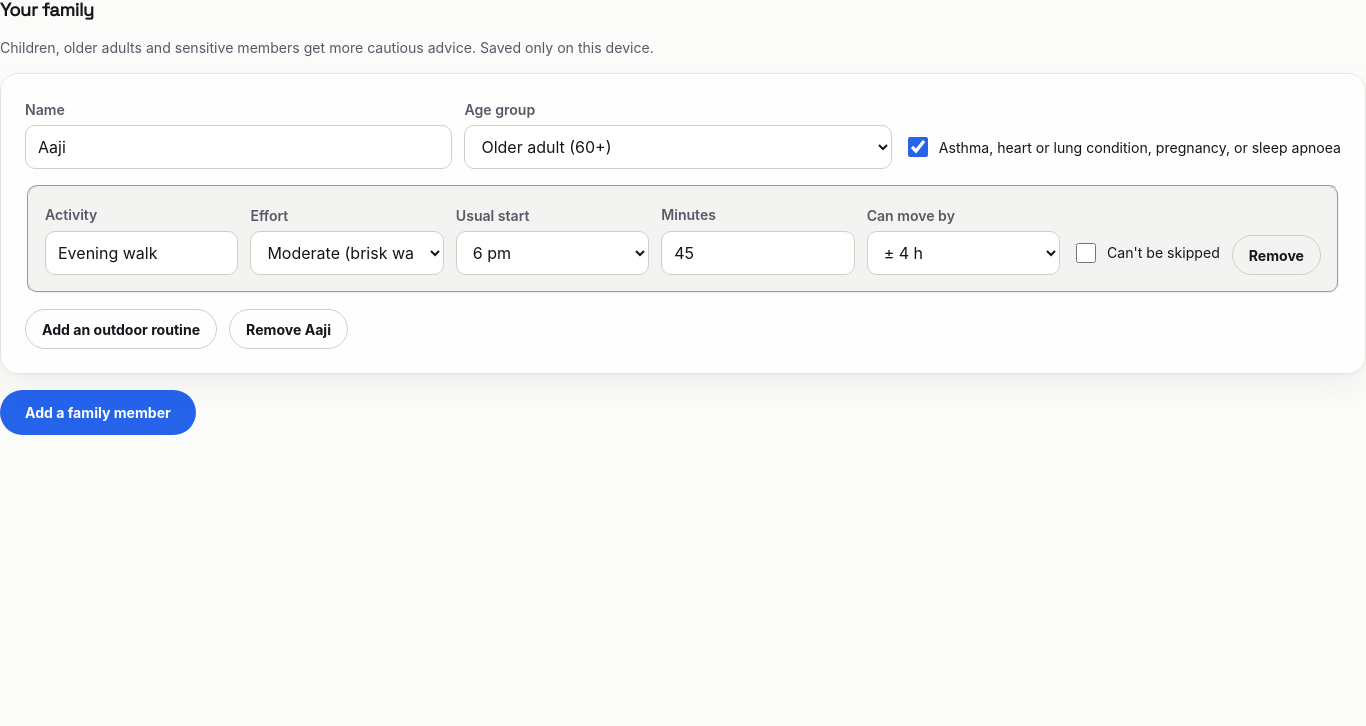
Test case: FamilyEditor › adds and removes routines, hiding the button at five
Click the button "Add an outdoor routine".
click(121, 329)  # box [25,309,217,349]
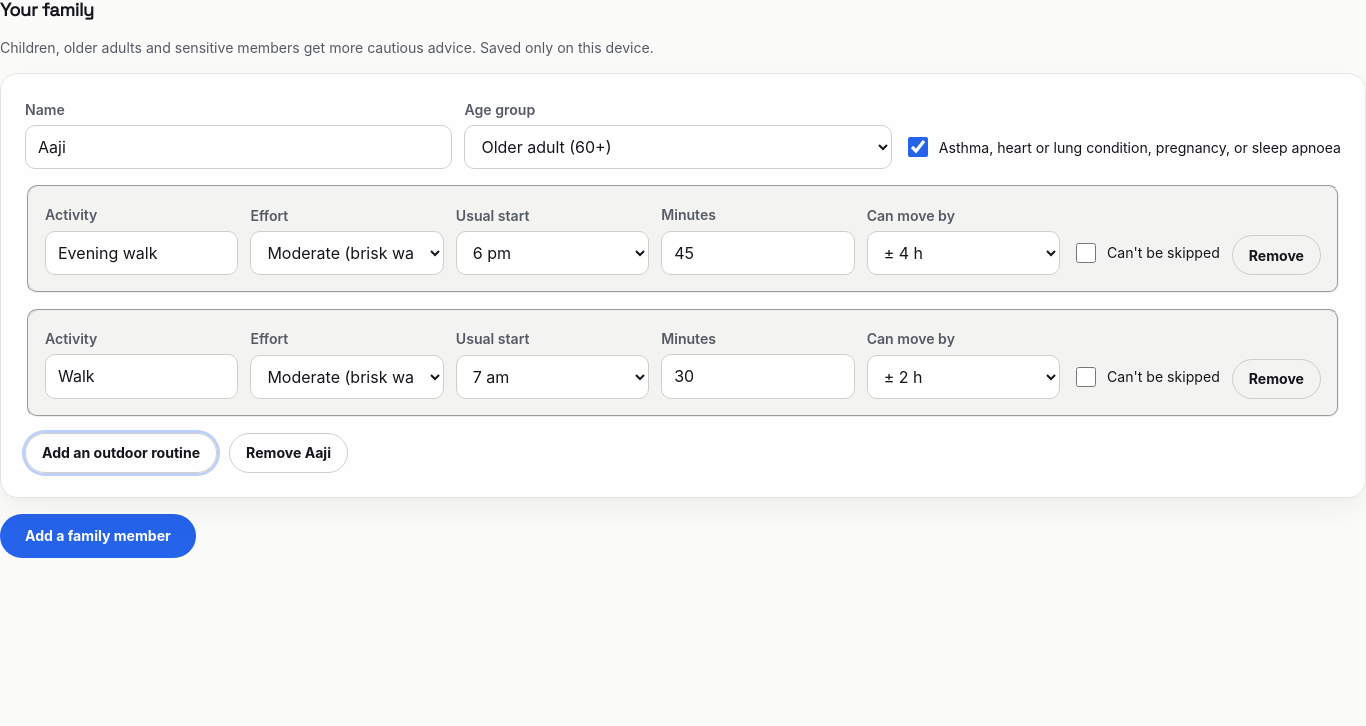
Click the button "Add an outdoor routine".
click(121, 453)  # box [25,433,217,473]
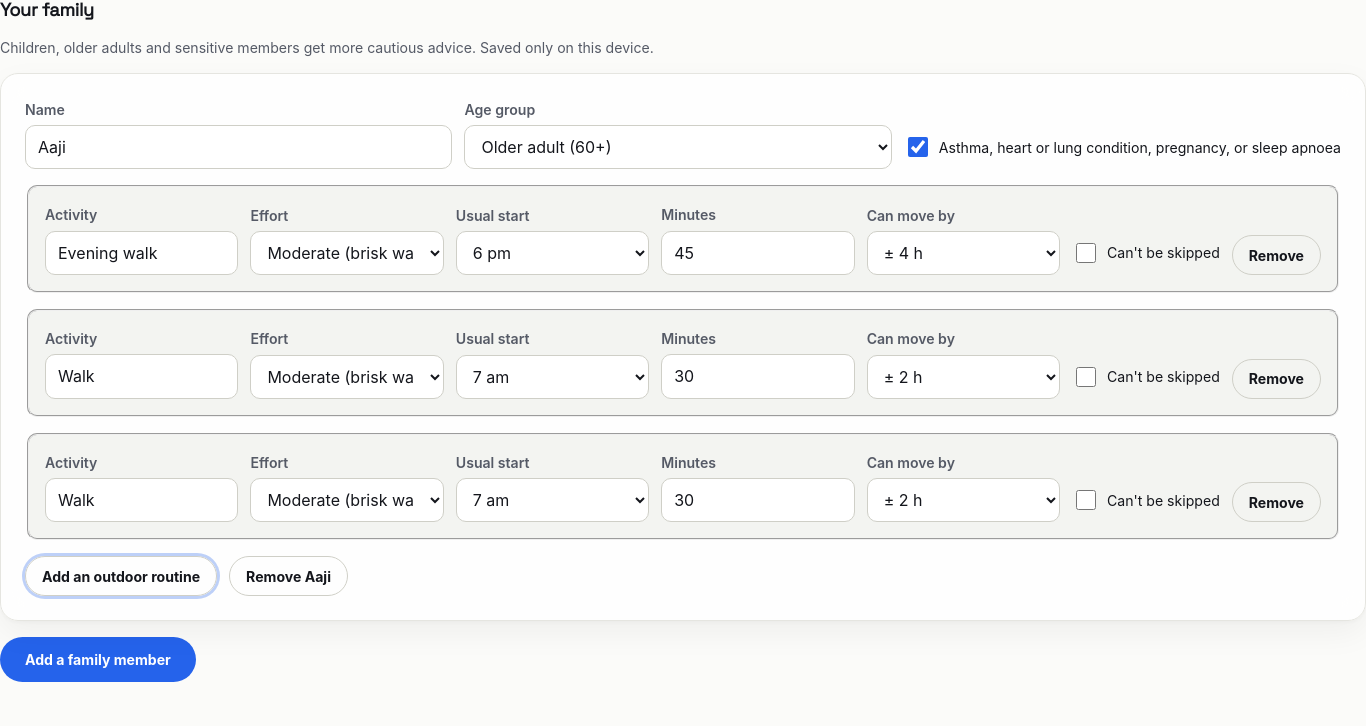
Click the button "Add an outdoor routine".
click(121, 576)  # box [25,556,217,596]
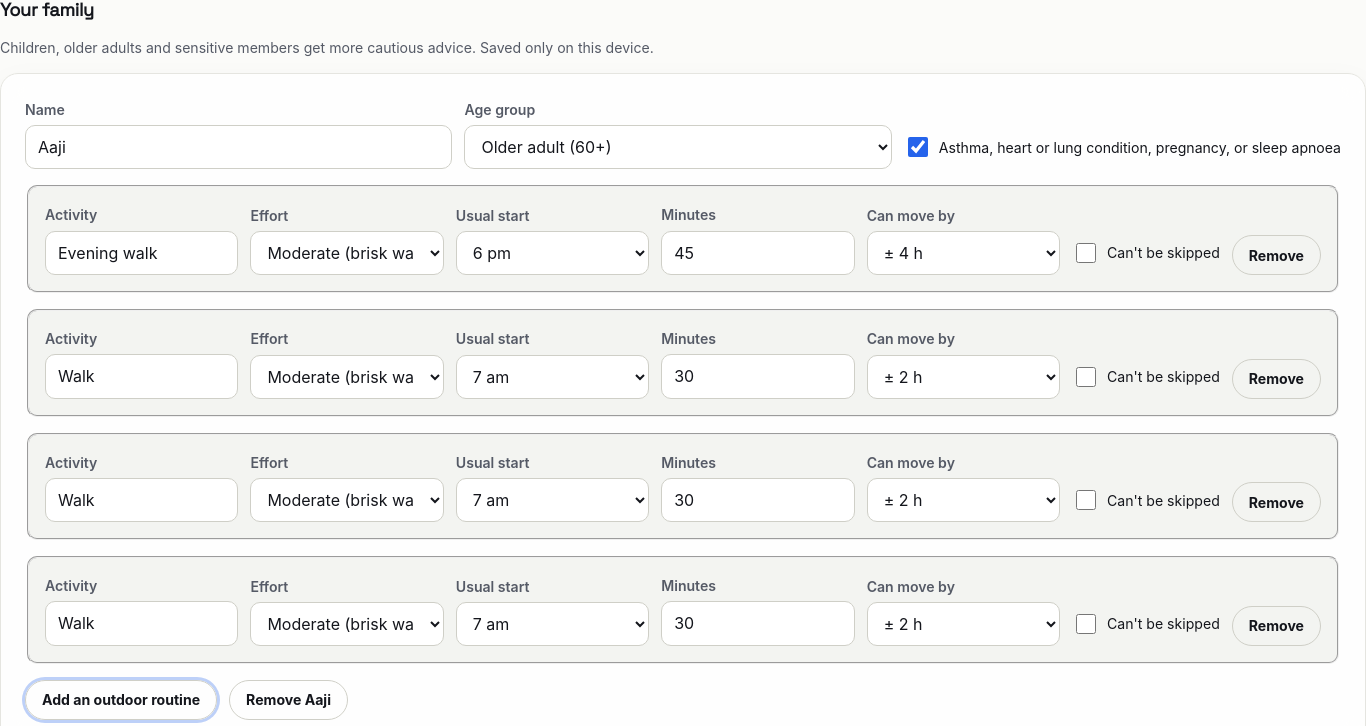
Click the button "Add an outdoor routine".
click(121, 700)  # box [25,680,217,720]
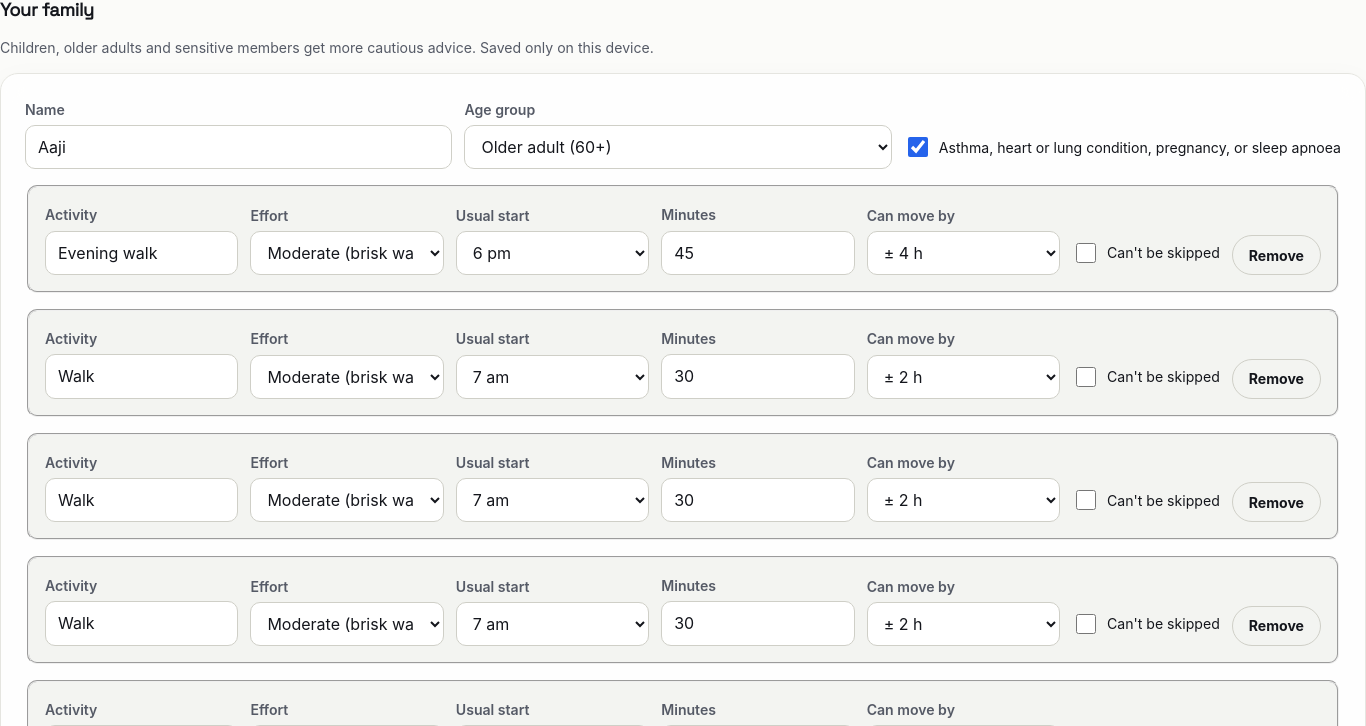
Check: the button "Add an outdoor routine" is gone
Click the button with aria-label "Remove Evening walk".
click(1276, 255)  # box [1232,235,1321,275]
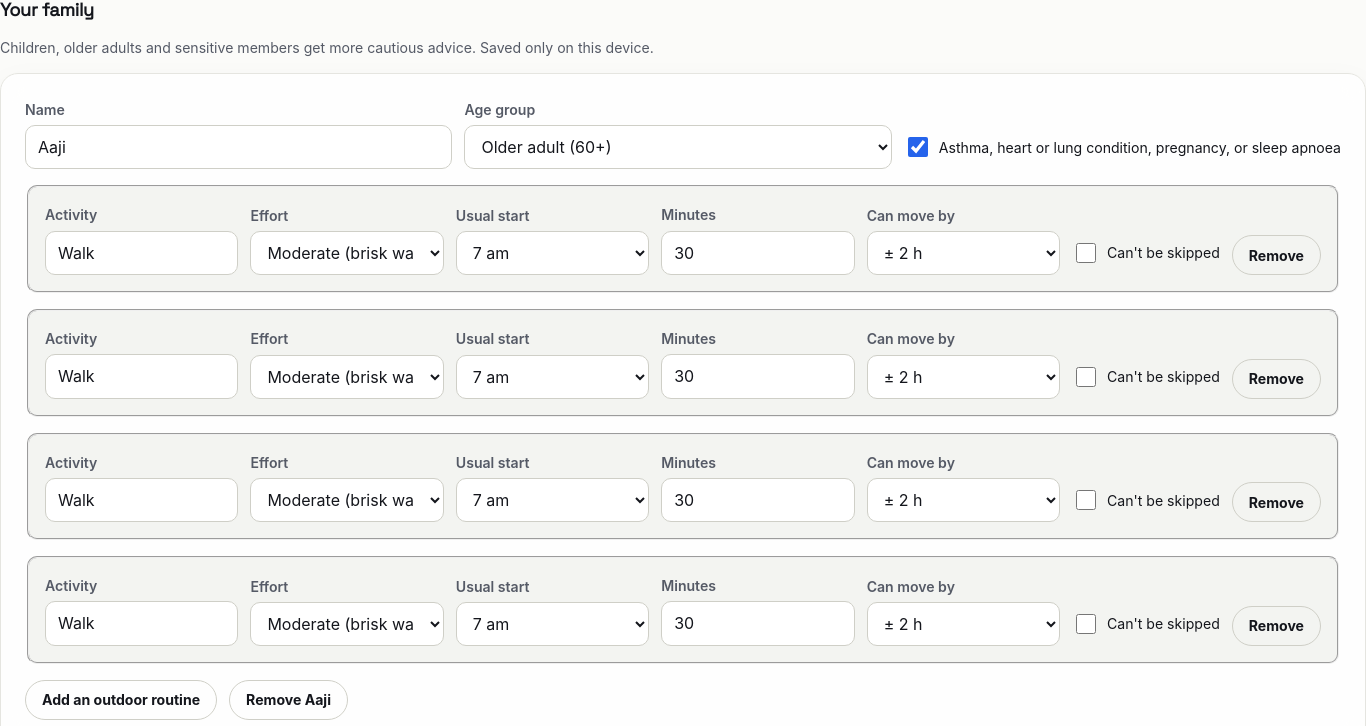
Check: the button "Add an outdoor routine" is shown, box [25,680,217,720]
